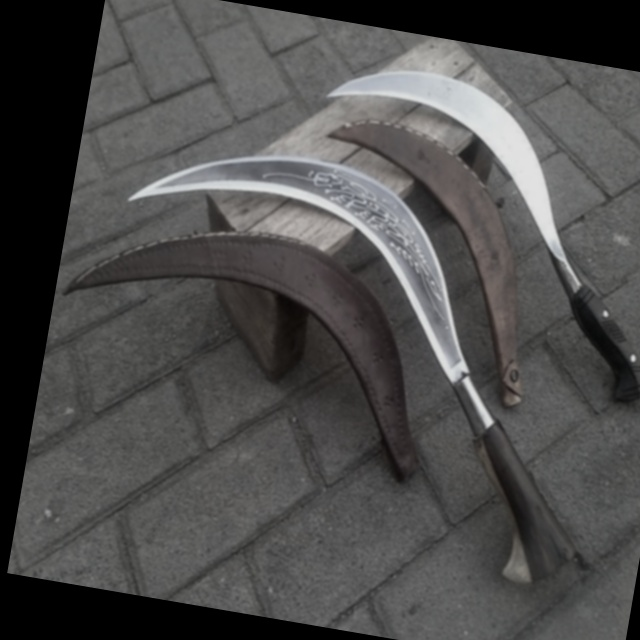Sharp-Object: (72, 122, 640, 609), (291, 22, 640, 413)
